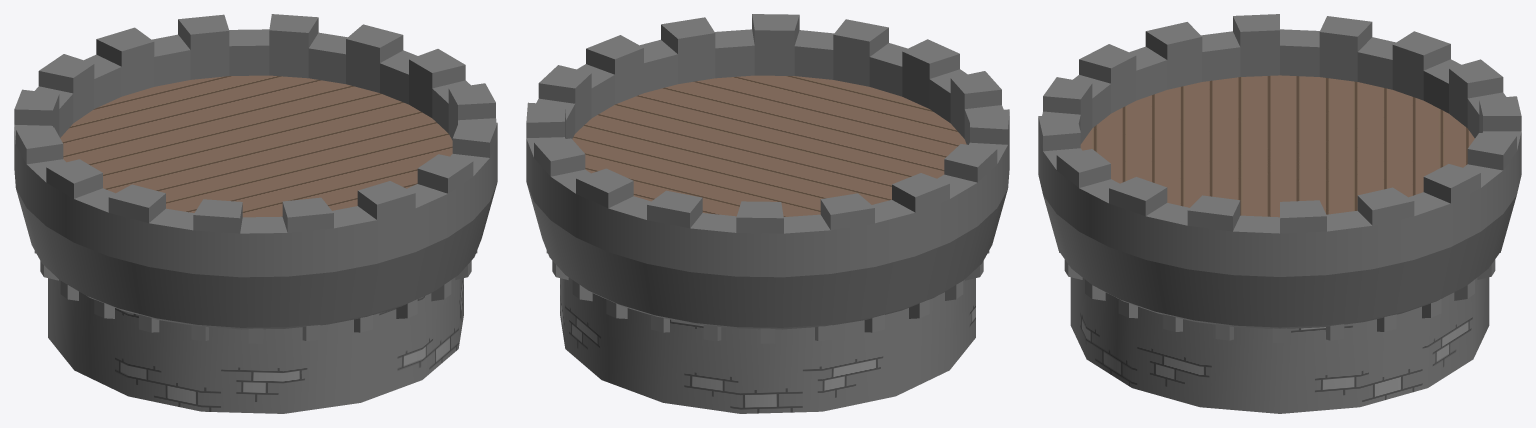
The model's file is rookTop.gltf.
3 views of the same model, side by side, from view 1: azimuth 30°, elevation 25°; view 2: azimuth 150°, elevation 25°; view 3: azimuth 270°, elevation 25° (orthographic).
Visible parts, largest first — view 1: rookTop; view 2: rookTop; view 3: rookTop.
Part boxes in pixels (bbox=[...]): rookTop: bbox=[14, 14, 497, 413]; rookTop: bbox=[526, 14, 1009, 413]; rookTop: bbox=[1038, 14, 1521, 413].
Size of the model in its own units: 8.93 by 4.27 by 8.93.
4 materials, 2 textured.
